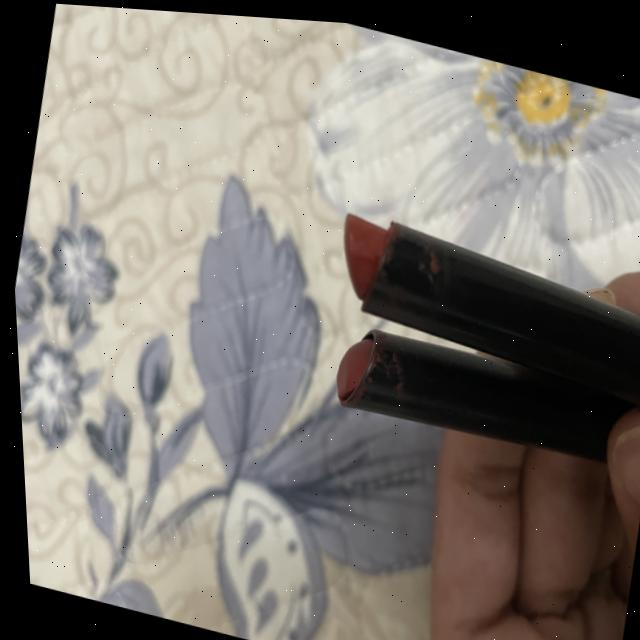lip stick: (299, 198, 640, 469)
